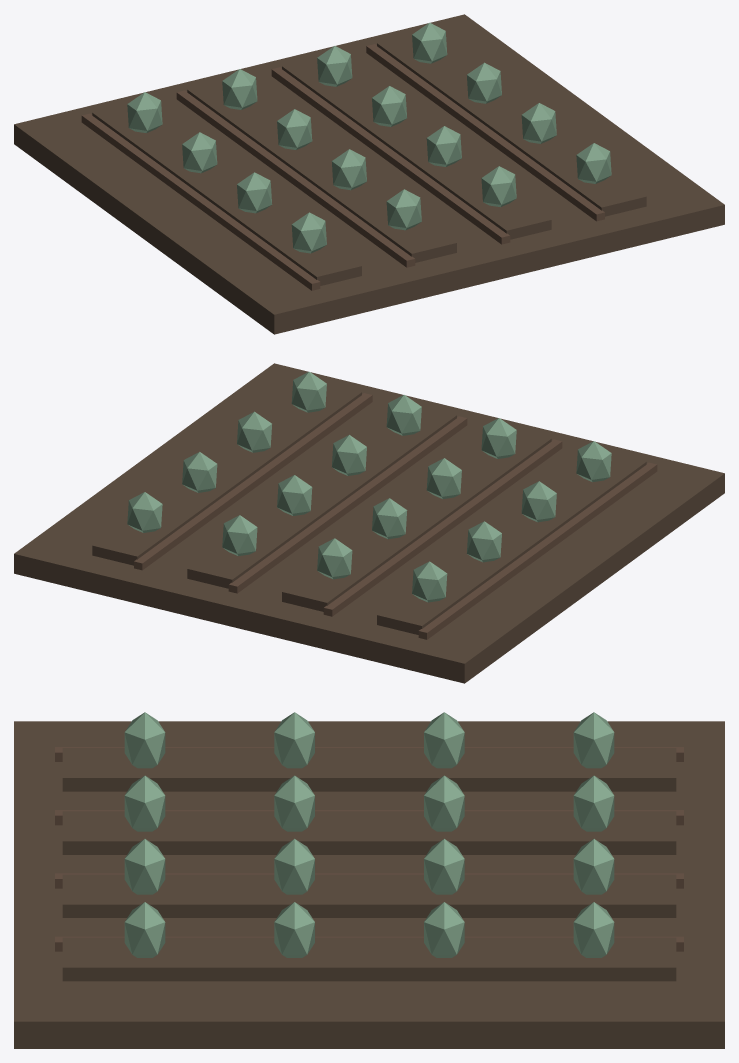
Rendered from ground_planted.glb.
The picture shows the model from 3 angles, top to bottom: view 1: azimuth 30°, elevation 25°; view 2: azimuth 150°, elevation 25°; view 3: azimuth 270°, elevation 25°; orthographic projection. The views are drawn at different scales.
Parts seen in each view (by area): view 1: ground_planted soil, ground_planted wood, ground_planted pine, ground_planted leaf; view 2: ground_planted soil, ground_planted wood, ground_planted pine, ground_planted leaf; view 3: ground_planted soil, ground_planted leaf, ground_planted pine, ground_planted wood.
Boxes of the visible parts, left/top/right/bottom form: ground_planted soil: left=14, top=14, right=724, bottom=334; ground_planted wood: left=81, top=44, right=604, bottom=290; ground_planted pine: left=222, top=22, right=611, bottom=230; ground_planted leaf: left=127, top=46, right=516, bottom=253; ground_planted soil: left=14, top=363, right=724, bottom=683; ground_planted wood: left=134, top=393, right=657, bottom=639; ground_planted pine: left=127, top=371, right=516, bottom=579; ground_planted leaf: left=222, top=395, right=611, bottom=602; ground_planted soil: left=14, top=721, right=724, bottom=1048; ground_planted leaf: left=124, top=712, right=614, bottom=894; ground_planted pine: left=124, top=775, right=614, bottom=957; ground_planted wood: left=55, top=747, right=683, bottom=951.
Size of the model in its own units: 0.95 by 0.135 by 0.95.
